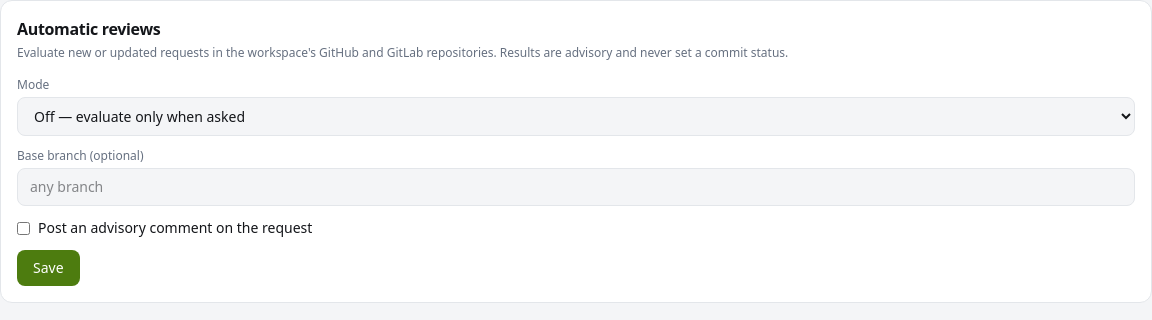
Scenario: CiSettingsPanel › shows a failed save as an error next to the button
Expected: the dropdown is shown, left=17, top=97, right=1135, bottom=136
Click the button "Save" at [48, 268], box left=17, top=250, right=80, bottom=286
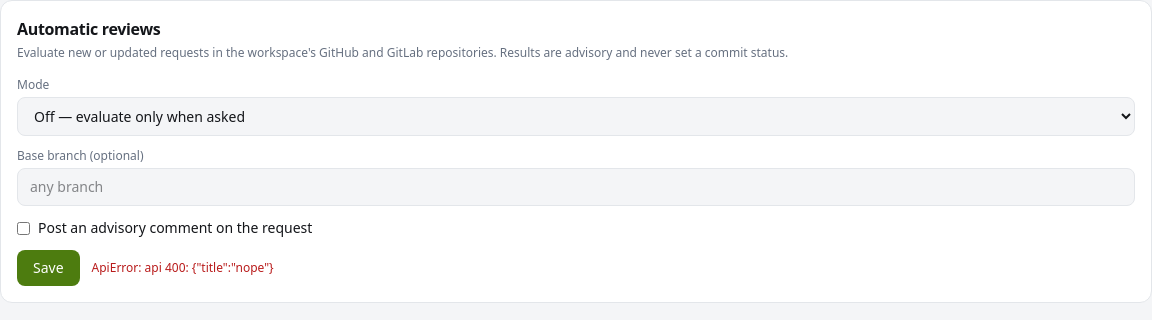
Now the text "ApiError: api 400: {\"title\":\"nope\"}" is shown, box left=92, top=260, right=274, bottom=276
